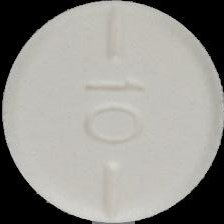55154-0677: (0, 0, 224, 224)
